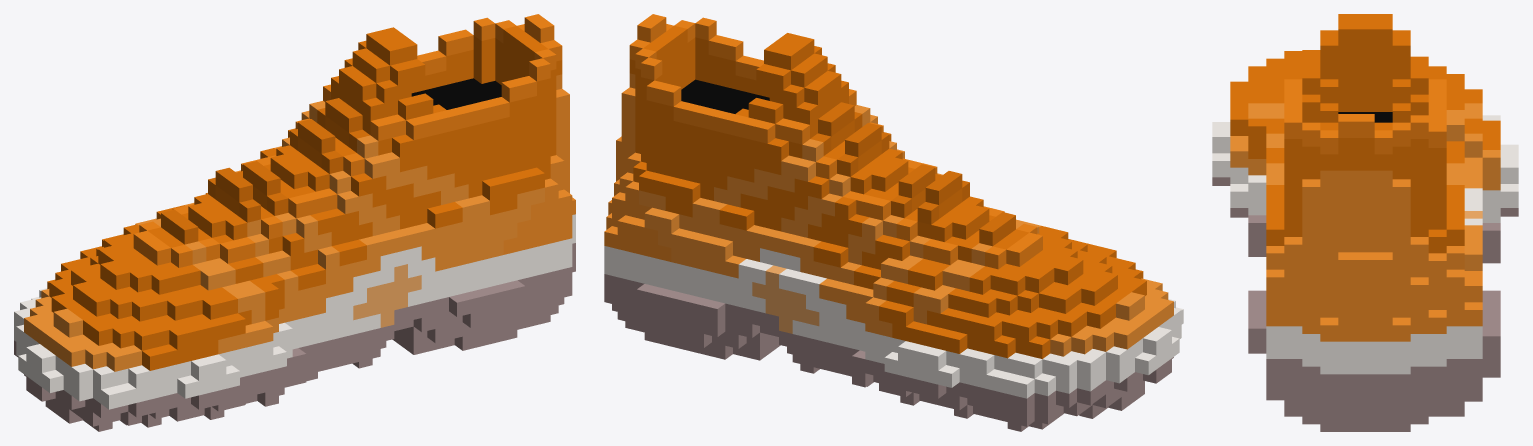
Rendered from Dashing Orange.fbx.
3 renders of one model, left to right at view 1: azimuth 30°, elevation 25°; view 2: azimuth 150°, elevation 25°; view 3: azimuth 270°, elevation 25°, orthographic. The views are drawn at different scales.
Visible parts, largest first — view 1: Untitled; view 2: Untitled; view 3: Untitled.
Boxes of the visible parts, x1,y1,x2,y2 form: Untitled: (14, 14, 575, 431); Untitled: (604, 14, 1183, 431); Untitled: (1212, 14, 1518, 431).
Size of the model in its own units: 390 by 200 by 170.
